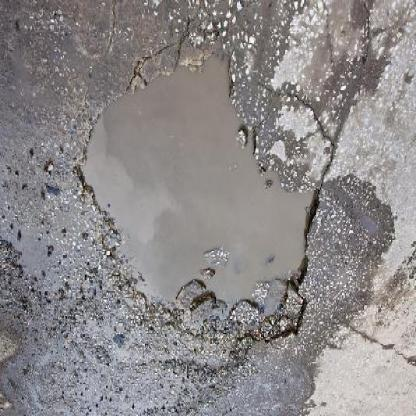pothole: (73, 48, 323, 348)
